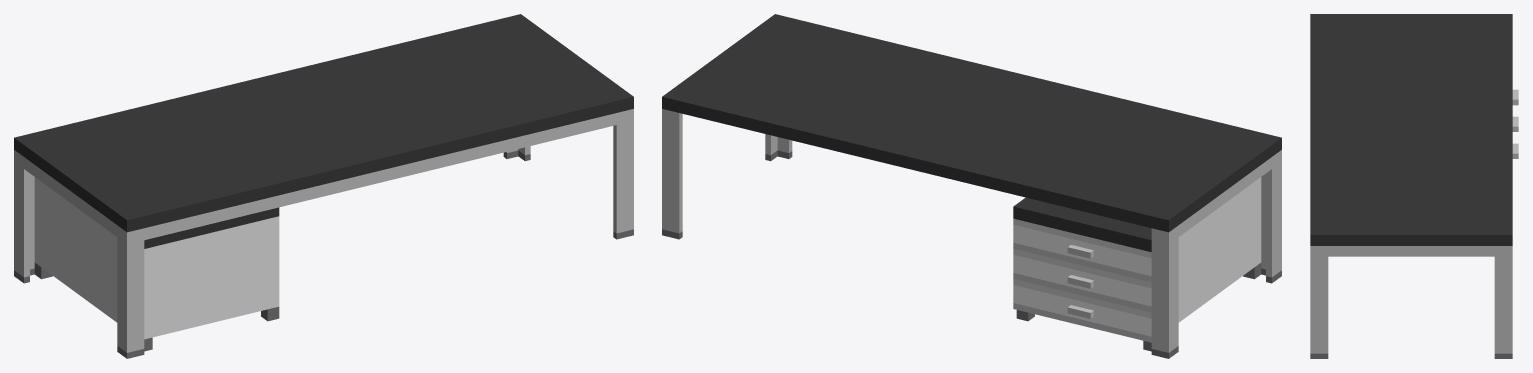
File: Desk2-6.fbx
3 views of the same model, side by side, from view 1: azimuth 30°, elevation 25°; view 2: azimuth 150°, elevation 25°; view 3: azimuth 270°, elevation 25° (orthographic). The views are drawn at different scales.
Visible parts, largest first — view 1: Desk2-6.001; view 2: Desk2-6.001; view 3: Desk2-6.001.
Part boxes in pixels (x1,y1,x2,y2): Desk2-6.001: (14, 14, 633, 358); Desk2-6.001: (662, 14, 1281, 358); Desk2-6.001: (1310, 14, 1518, 358).
Size of the model in its own units: 8.8 by 2.3 by 3.5.
